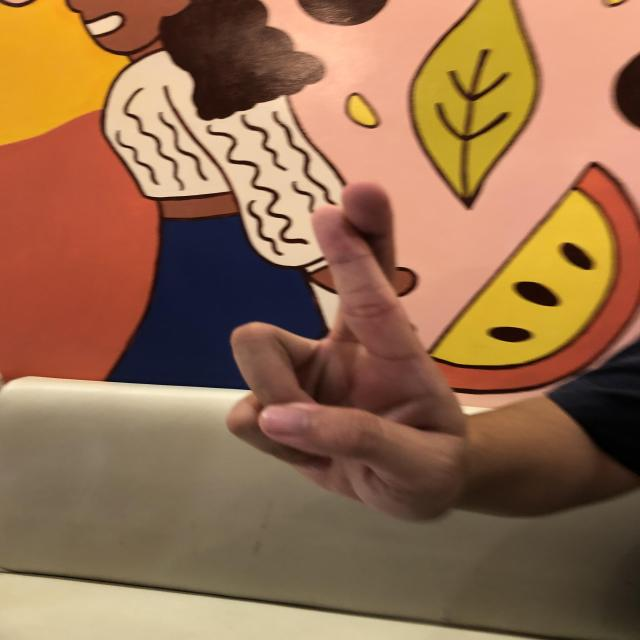R: (222, 181, 476, 527)
